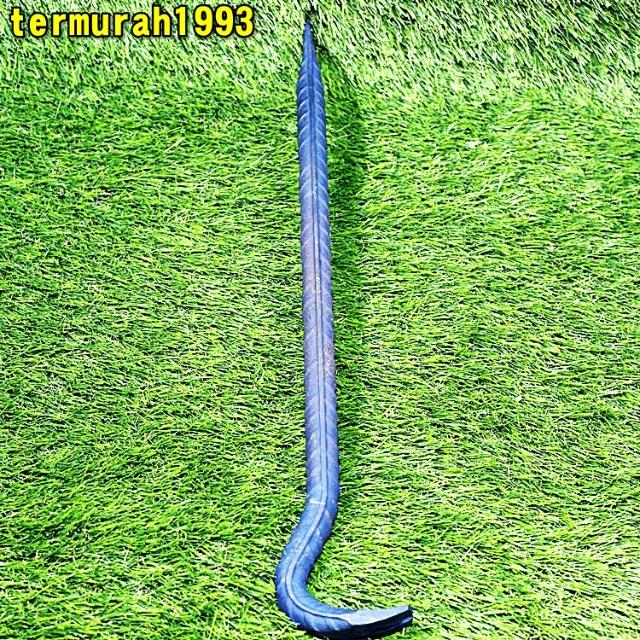crow bar: (274, 16, 426, 640)
